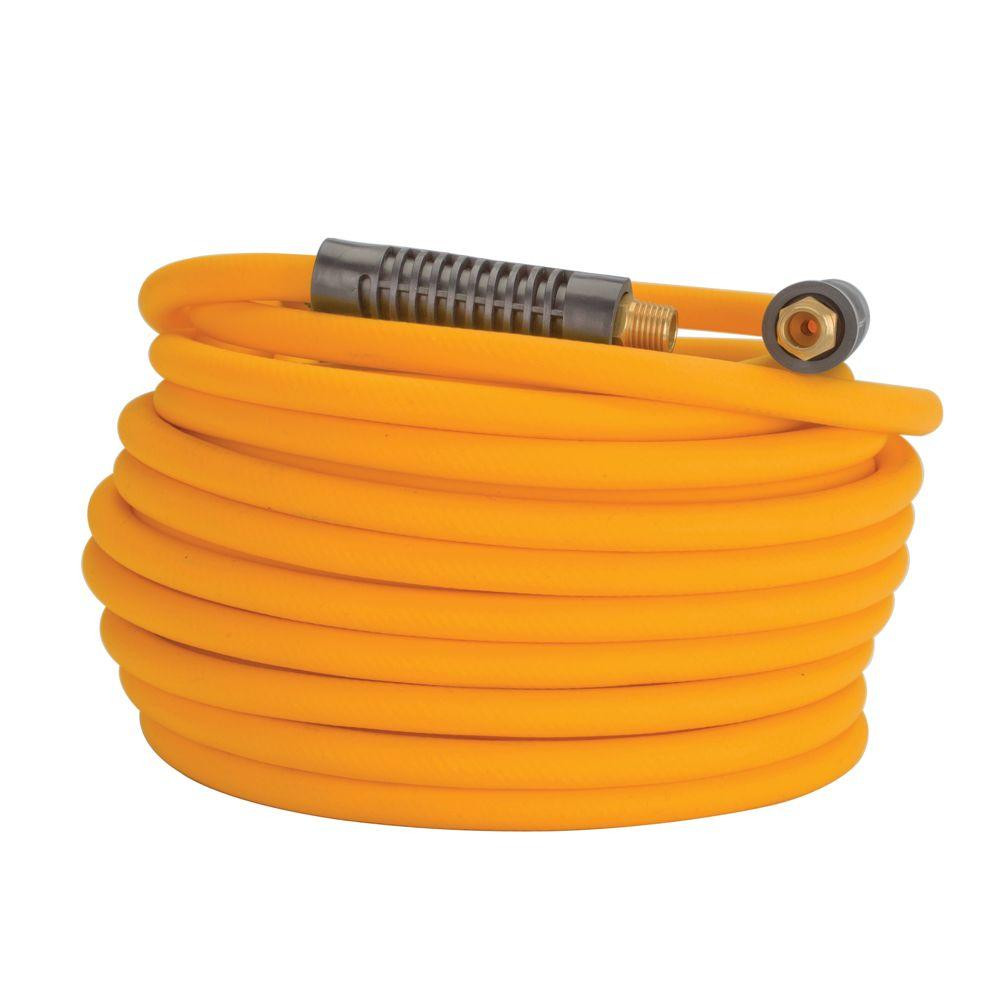Nonrec_Tangler: (49, 164, 948, 875)
